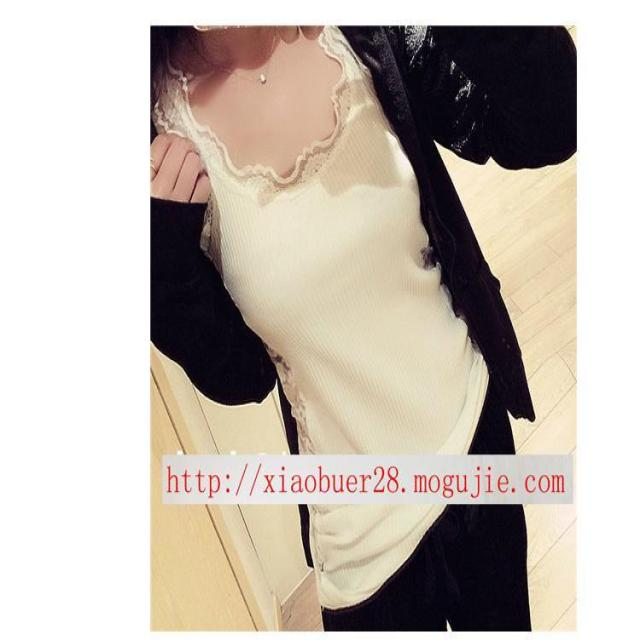vest: (159, 29, 492, 606)
